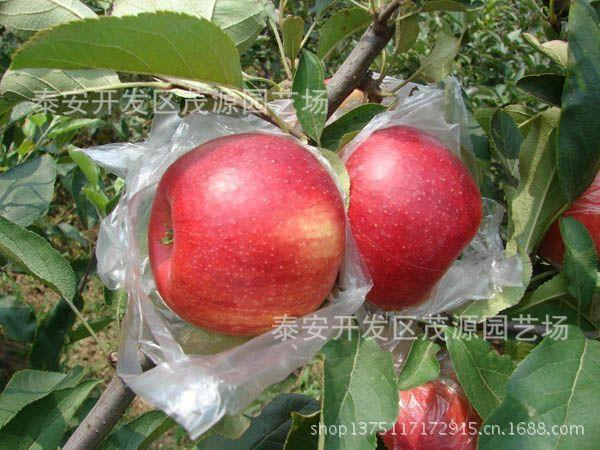apple: (148, 133, 347, 338), (337, 127, 482, 319)
